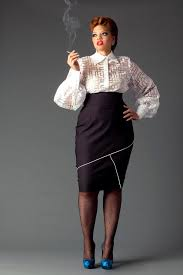F_tailored skirt: (69, 88, 139, 196)
